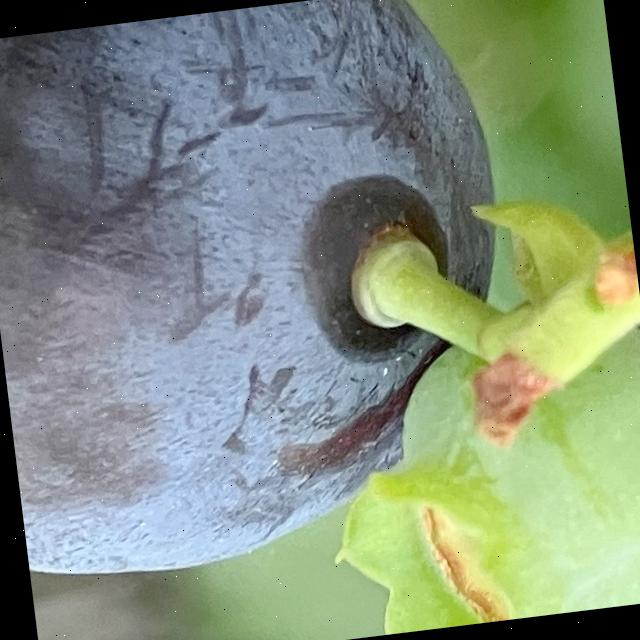Blueberries: (0, 0, 543, 595)
